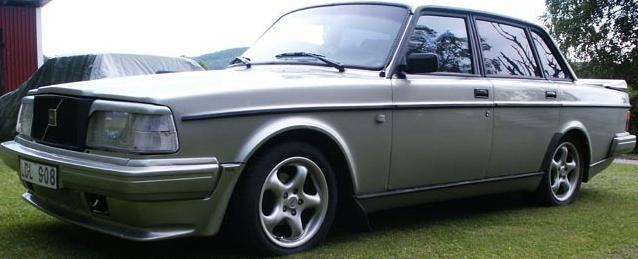front_view: (0, 80, 230, 245)
headlight: (60, 87, 187, 163)
side_glass: (393, 11, 568, 80)
